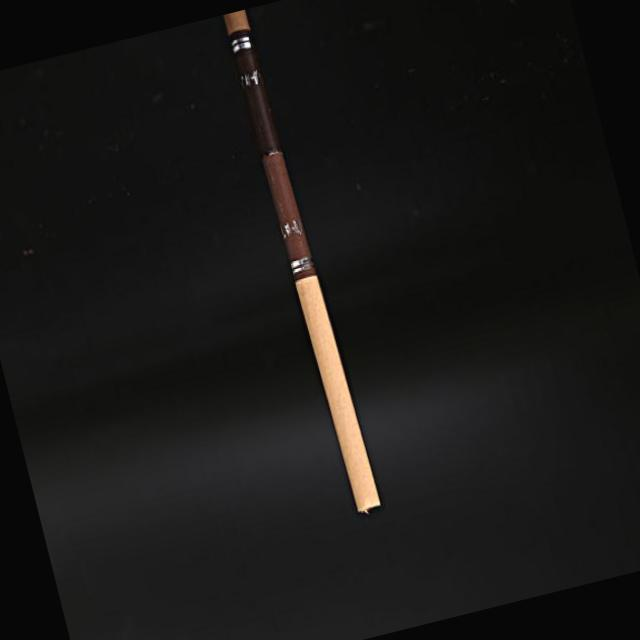smoke: (254, 143, 393, 528)
